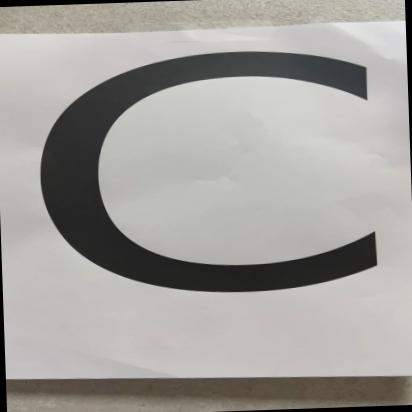seat: (1, 21, 412, 384)
